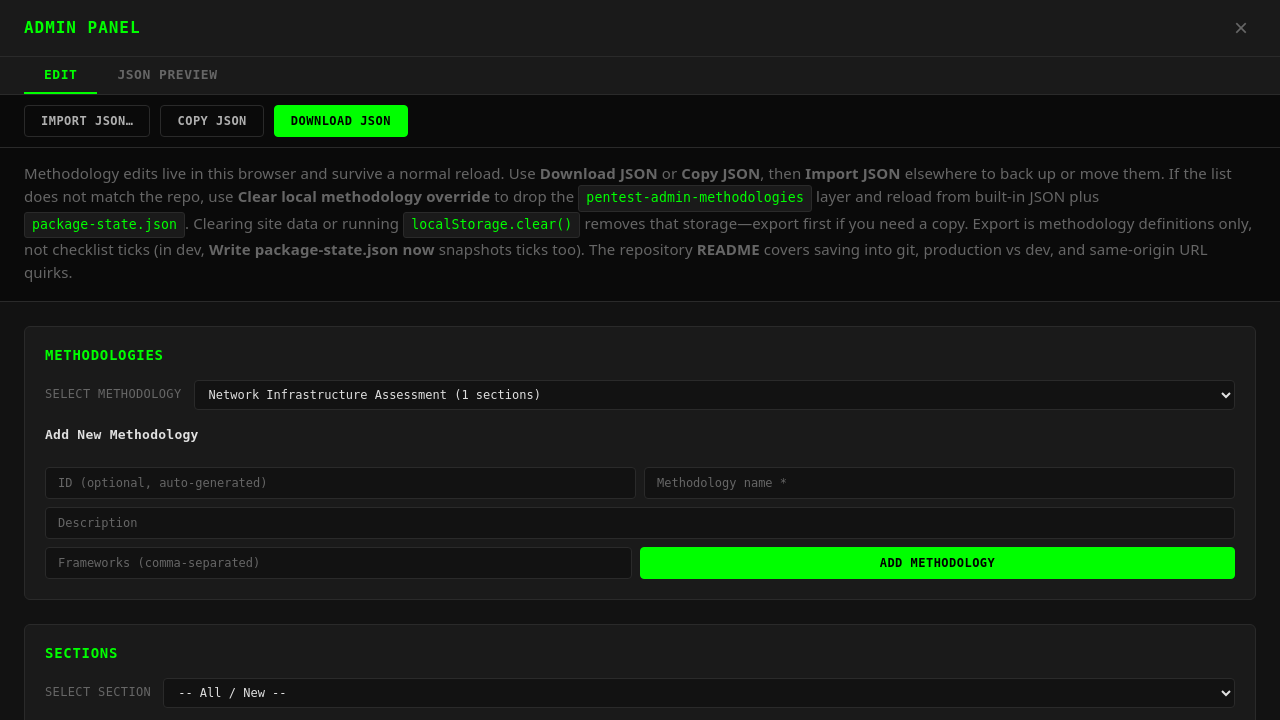
Test case: AdminPanel › shows JSON export in preview tab
This screenshot has width=1280, height=720.
Click the tab "JSON Preview": (168, 76) x1=97 y1=57 x2=238 y2=94
(page scrolled)
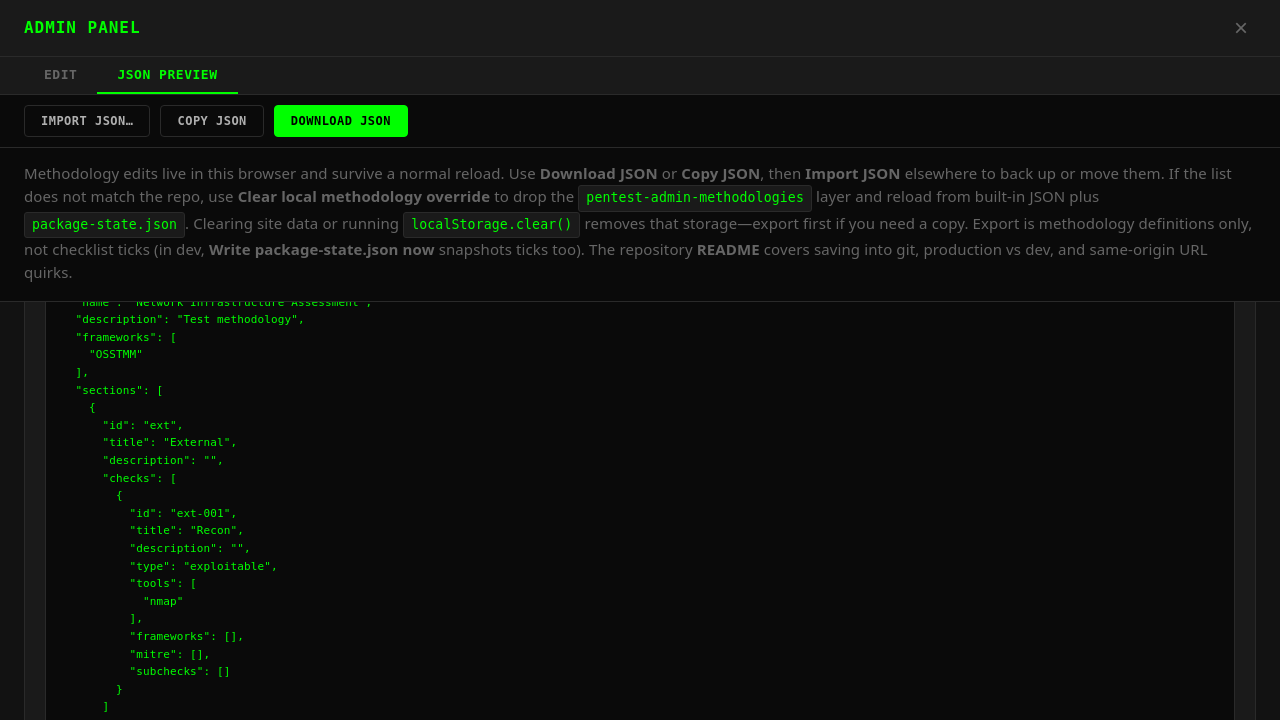
Expected: the text "\"id\":" is shown, x1=62 y1=302 x2=372 y2=719
